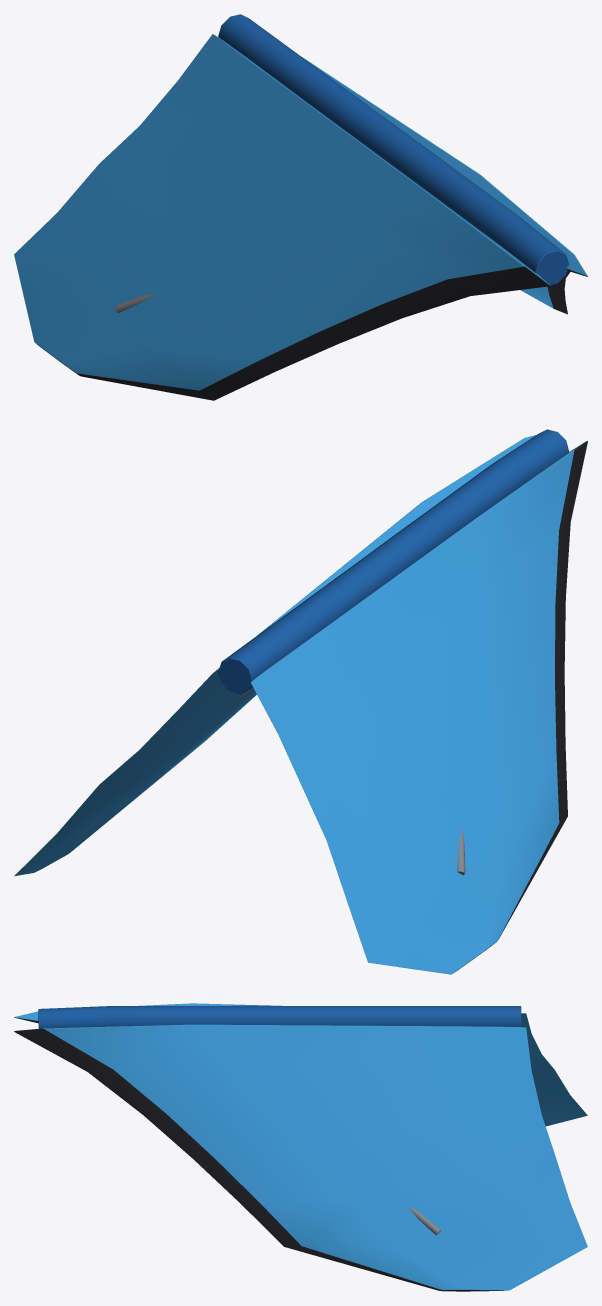
Rendered from strix_tail_ep.fbx.
3 views of the same model, one above another, from view 1: azimuth 30°, elevation 25°; view 2: azimuth 150°, elevation 25°; view 3: azimuth 270°, elevation 25° (orthographic). The views are drawn at different scales.
Visible parts, largest first — view 1: Tail_V; view 2: Tail_V; view 3: Tail_V.
Boxes of the visible parts, x1,y1,x2,y2 form: Tail_V: (14,14,587,400); Tail_V: (14,429,587,974); Tail_V: (14,1003,587,1291).
Bounding box in the file's own units: 68.61 × 42.29 × 106.
